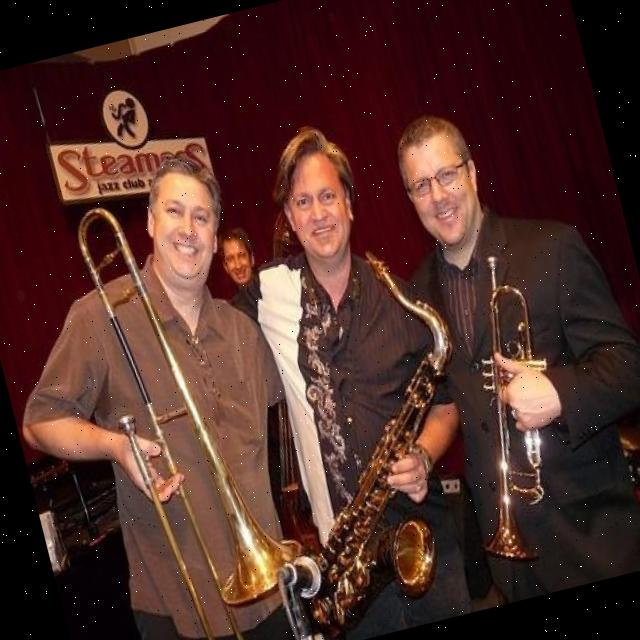saxophone: (224, 235, 510, 622)
